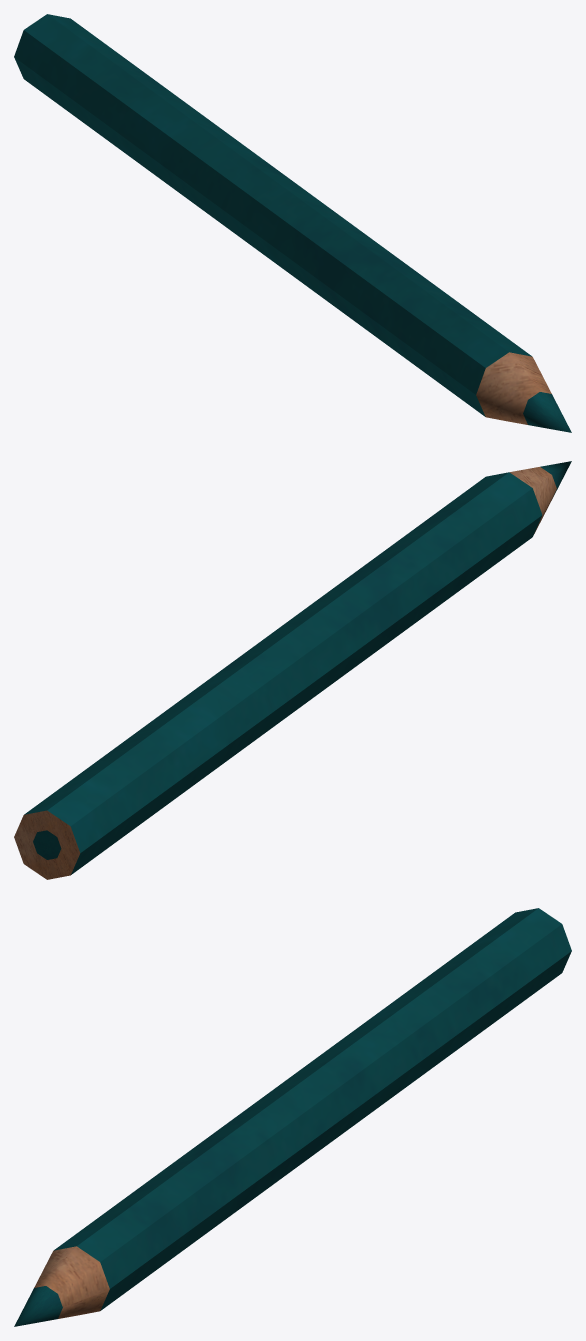
The model's file is Pencil_green.fbx.
3 views of the same model, one above another, from view 1: azimuth 30°, elevation 25°; view 2: azimuth 150°, elevation 25°; view 3: azimuth 330°, elevation 25° (orthographic).
Visible parts, largest first — view 1: Pencil.002; view 2: Pencil.002; view 3: Pencil.002.
Boxes of the visible parts, bbox=[...] form: Pencil.002: bbox=[14, 14, 571, 432]; Pencil.002: bbox=[14, 461, 571, 879]; Pencil.002: bbox=[14, 908, 571, 1326].
Size of the model in its own units: 14.61 by 14.61 by 200.
